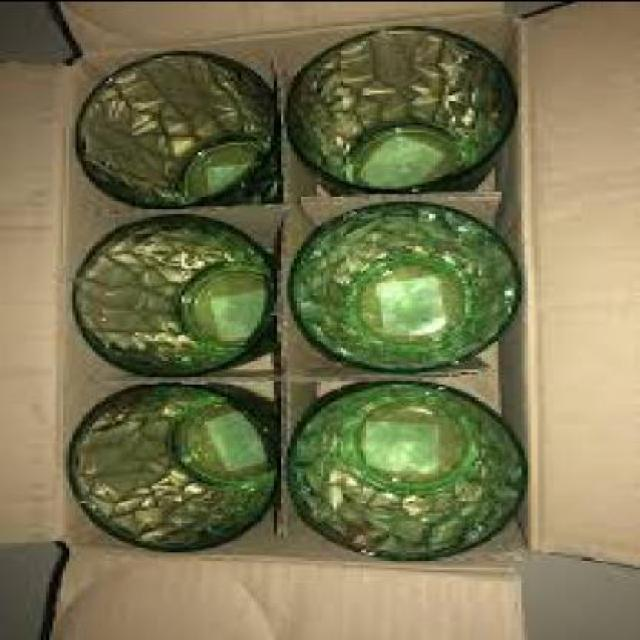CARDBOARD: (521, 2, 637, 566), (50, 563, 515, 639), (1, 64, 59, 544), (40, 2, 522, 52)
GLASS: (284, 380, 524, 562), (287, 201, 518, 373), (284, 27, 514, 190), (63, 386, 271, 556), (69, 214, 271, 380), (69, 52, 277, 210)
